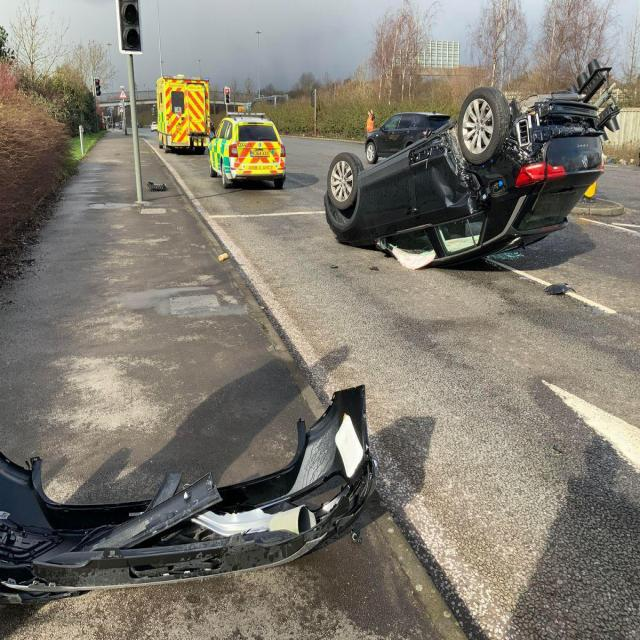accident: (322, 83, 609, 272)
